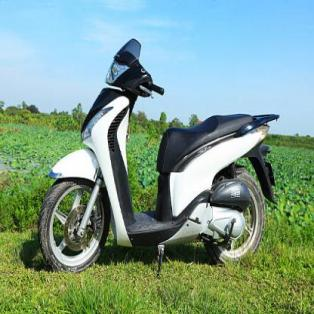Motocicleta: (35, 29, 282, 273)
